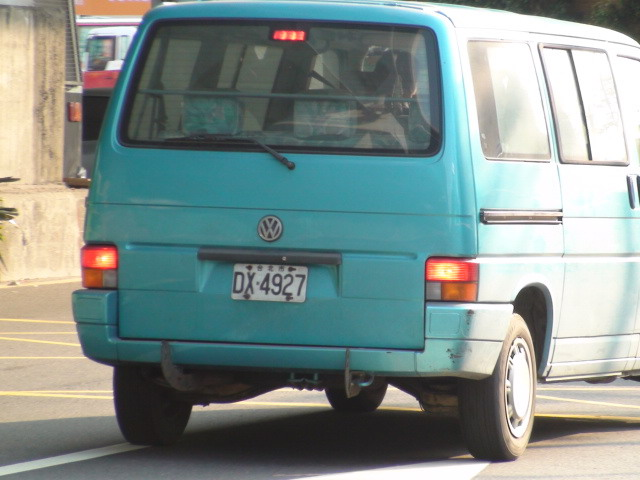plate: (231, 259, 310, 302)
